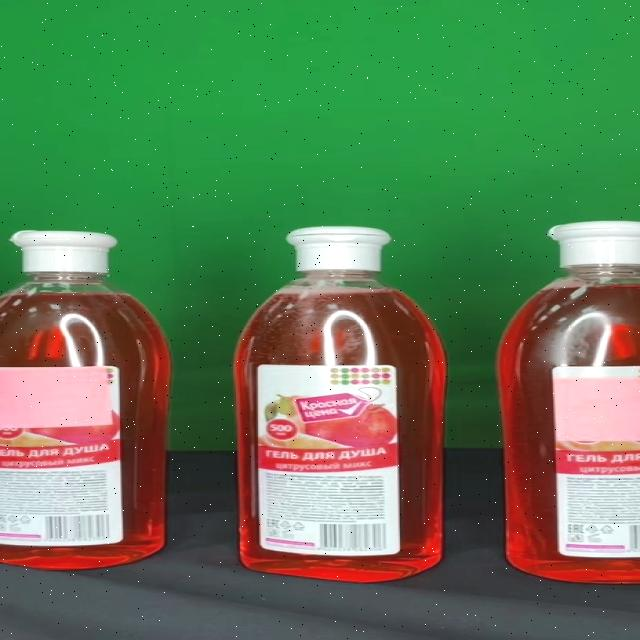Bottle: (233, 227, 447, 583), (0, 230, 172, 569)
Cap: (12, 230, 117, 274), (287, 227, 391, 270)
